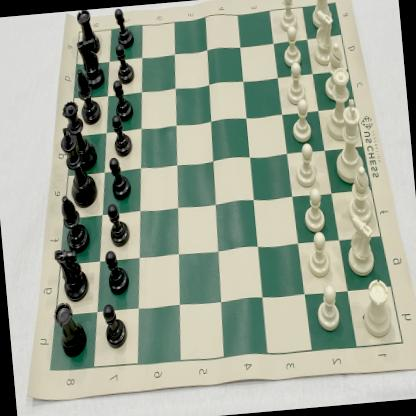black-bishop: (60, 192, 90, 252), (76, 68, 102, 125)
black-king: (61, 124, 100, 209)
black-knight: (54, 247, 90, 303), (76, 38, 106, 89)
black-pawn: (102, 304, 128, 350), (104, 249, 130, 295), (108, 157, 132, 202), (110, 115, 134, 158), (107, 204, 130, 248), (113, 78, 135, 122), (113, 6, 134, 48), (114, 44, 136, 84)
black-queen: (61, 99, 97, 170)
black-rook: (54, 300, 88, 358), (76, 8, 101, 54)
white-bishop: (345, 166, 374, 225), (322, 42, 348, 102)
white-king: (330, 98, 366, 184)
white-knight: (344, 213, 378, 278), (310, 9, 337, 66)
white-pawn: (302, 187, 330, 234), (315, 286, 343, 333), (306, 231, 332, 279), (289, 98, 314, 143), (292, 143, 317, 188), (285, 62, 307, 106), (280, 26, 302, 66), (277, 0, 297, 32)
white-queen: (322, 66, 355, 142)
white-rook: (361, 277, 394, 338), (310, 0, 333, 28)
